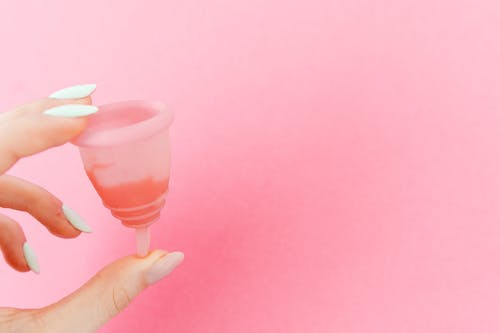blood: (83, 163, 171, 227)
